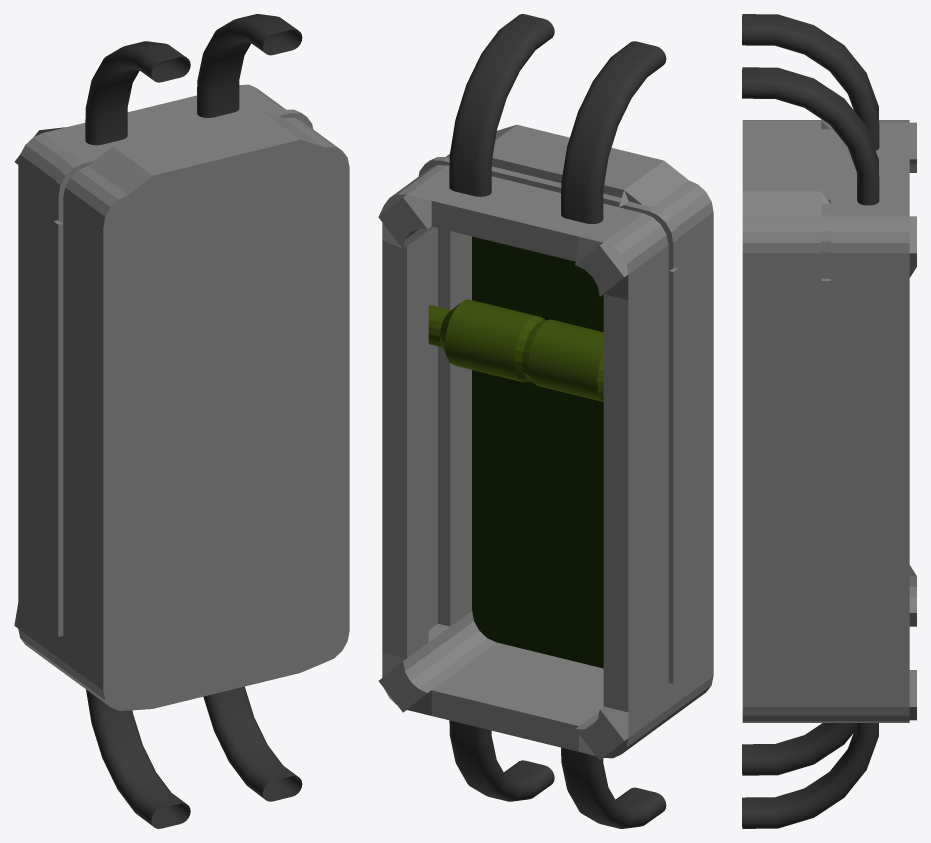
The model's file is lever.fbx.
3 views of the same model, side by side, from view 1: azimuth 30°, elevation 25°; view 2: azimuth 150°, elevation 25°; view 3: azimuth 270°, elevation 25° (orthographic). The views are drawn at different scales.
Parts seen in each view (by area): view 1: Cube, Arc; view 2: Cube, Arc, Cylinder; view 3: Cube, Arc.
Part boxes in pixels (bbox=[...]): Cube: bbox=[14, 84, 349, 710]; Arc: bbox=[85, 14, 302, 828]; Cube: bbox=[378, 124, 713, 760]; Arc: bbox=[449, 14, 666, 828]; Cylinder: bbox=[428, 299, 603, 401]; Cube: bbox=[742, 119, 916, 722]; Arc: bbox=[742, 14, 879, 828].
Bounding box in the file's own units: 0.26 × 0.7444 × 0.1573.
